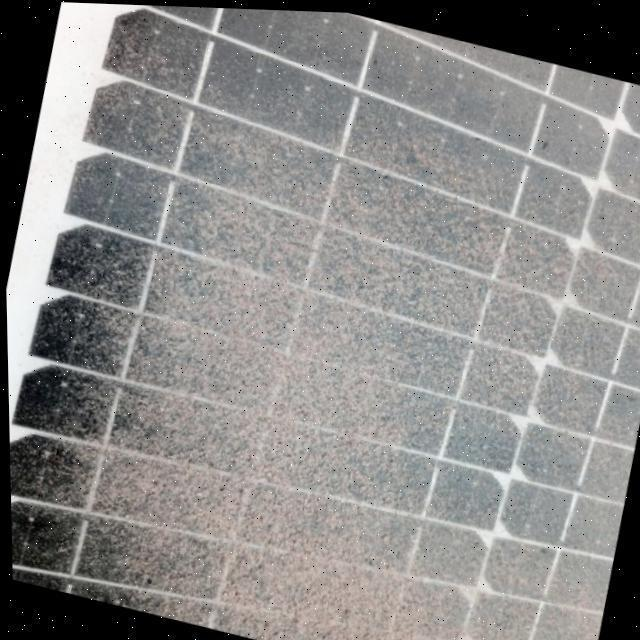Anomaly Solar Panel: (0, 0, 640, 640)
Surface Contaminant: (6, 2, 640, 640)
